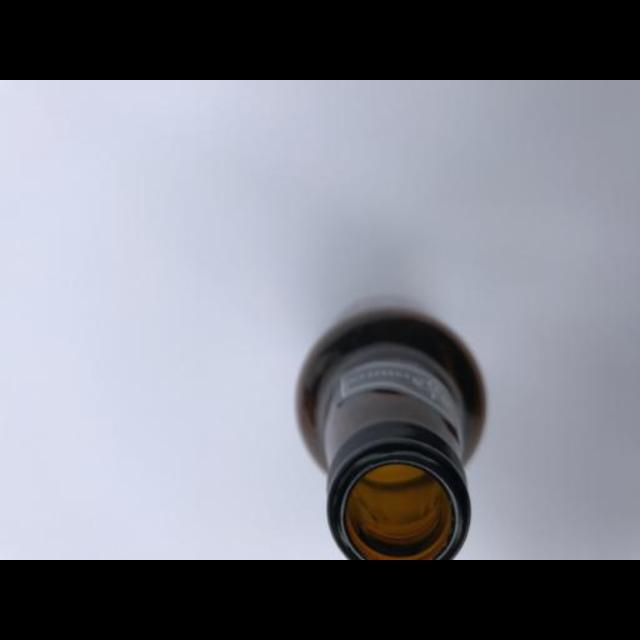garrafa de vidro: (296, 298, 489, 560)
